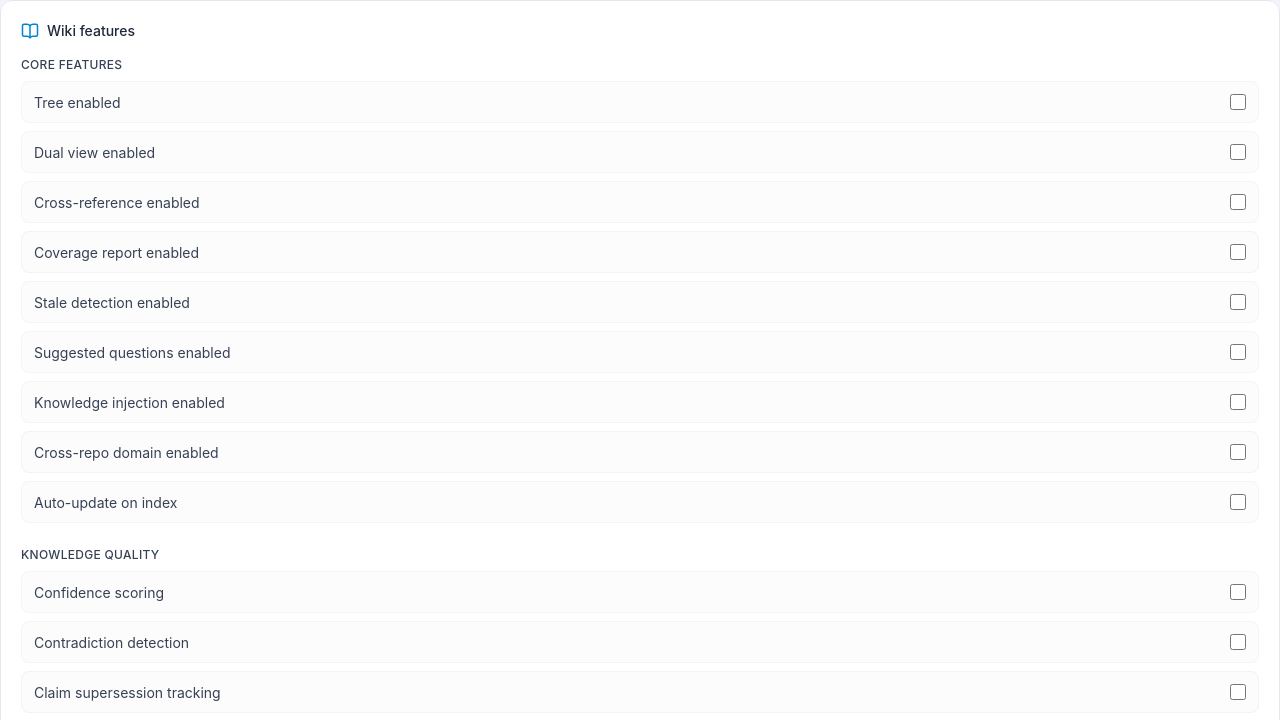
Test: SystemConfigPanel › tracks dirty state
This screenshot has width=1280, height=720.
Check: the button "save changes" is not shown
Step 1. Click the checkbox labelled "Tree enabled" → {"x": 1238, "y": 102}, box [1230, 94, 1246, 110]
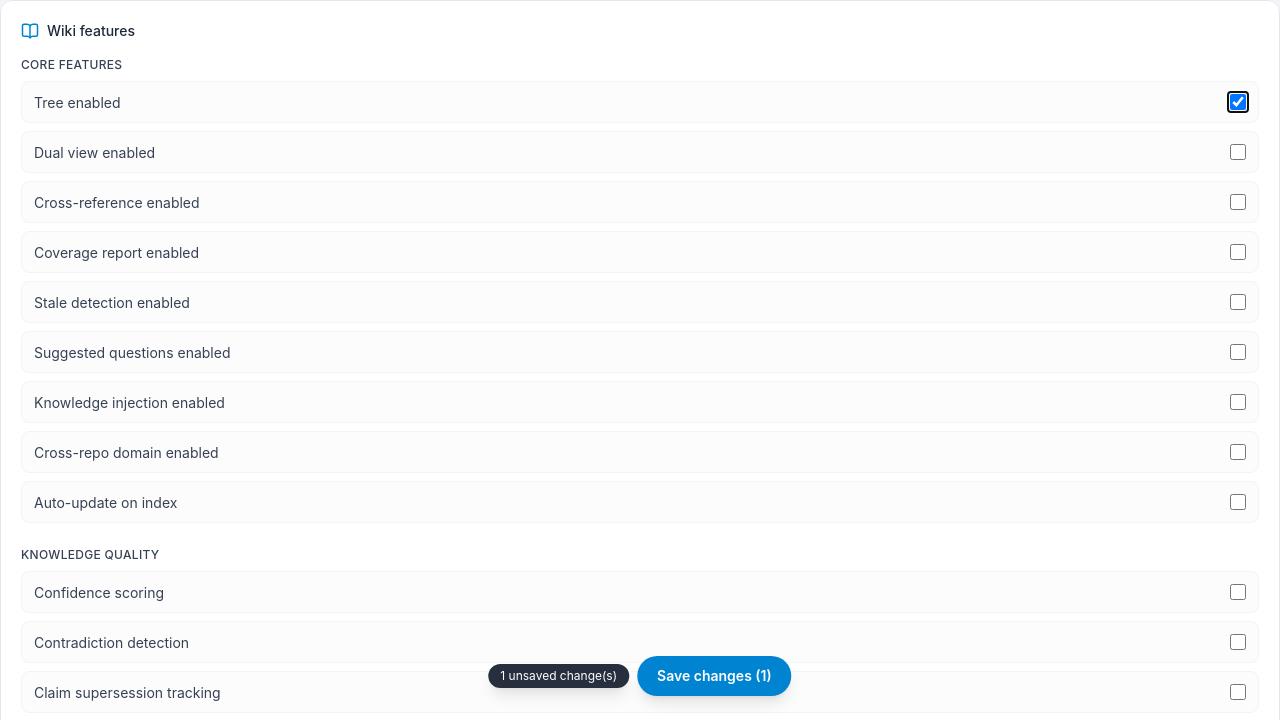
Check: the button "Save changes (1)" is shown, box [637, 656, 792, 696]
